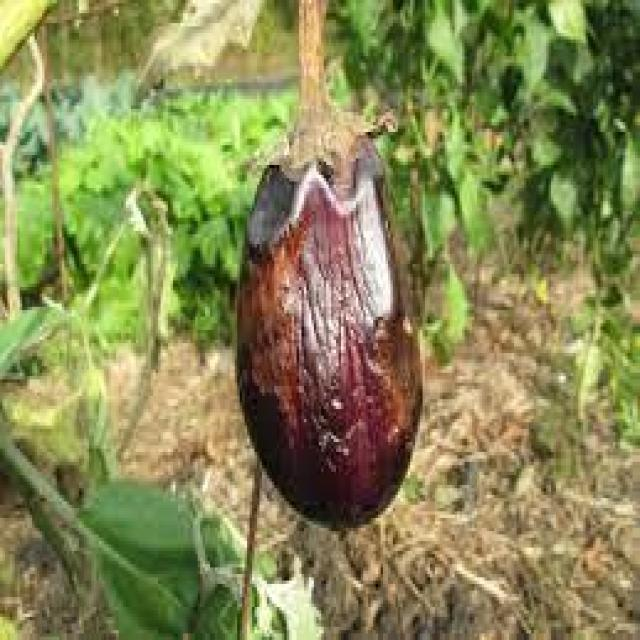eggplant: (234, 0, 422, 529)
